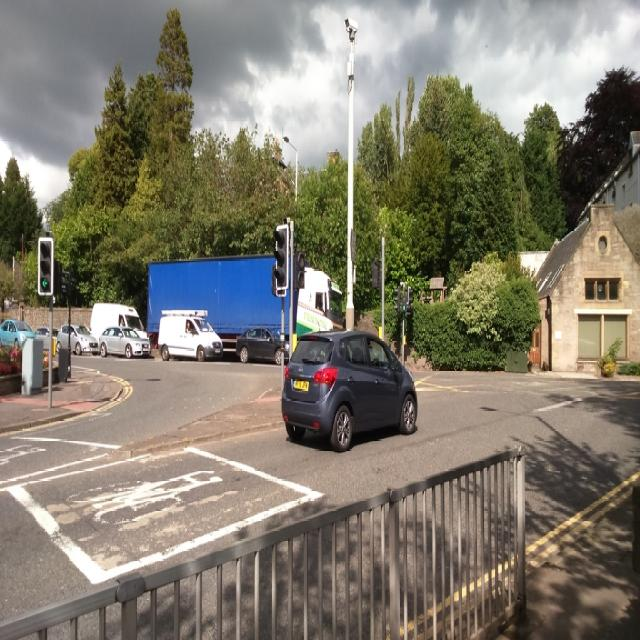car: (274, 317, 421, 445), (232, 319, 286, 367), (97, 323, 146, 357), (50, 320, 93, 348)
